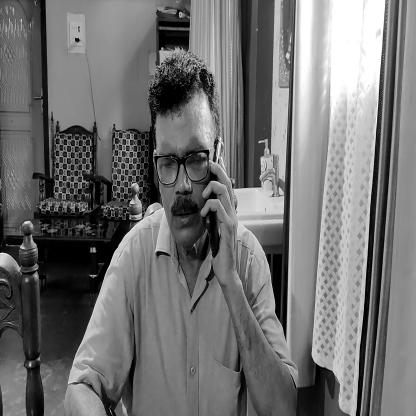Normal: (146, 44, 218, 253)
